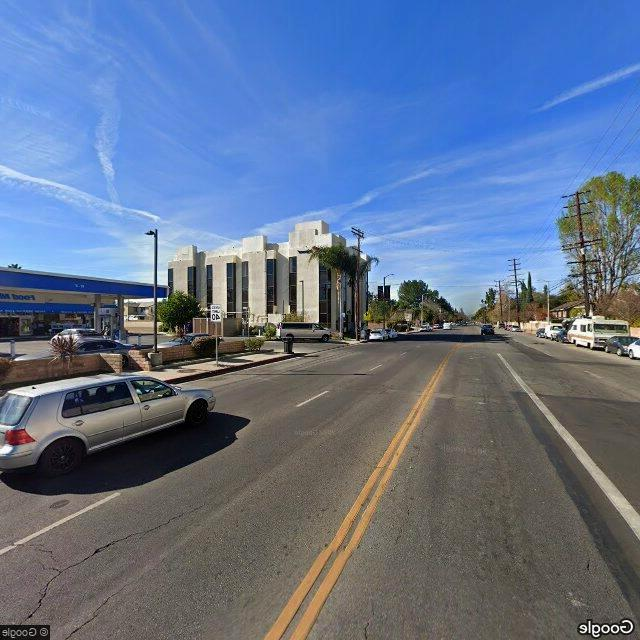pothole: (14, 499, 210, 623), (67, 571, 140, 639), (393, 498, 415, 548)
